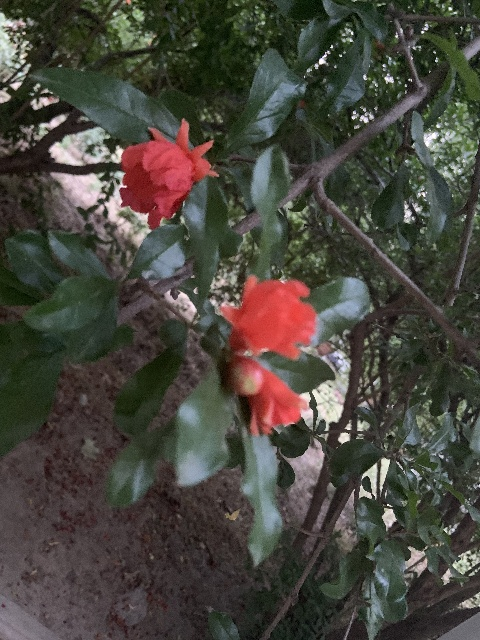bud: (224, 356, 264, 396)
flower: (118, 117, 216, 229), (219, 274, 316, 362), (246, 367, 310, 436)
